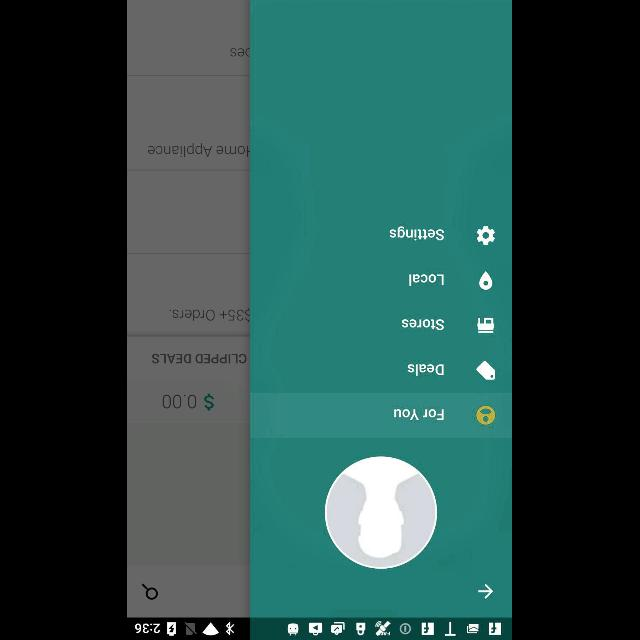icon: (326, 456, 438, 568), (476, 360, 496, 380), (476, 226, 496, 244), (476, 406, 496, 424), (142, 582, 160, 600), (479, 270, 493, 290), (478, 583, 494, 599)
image: (478, 317, 496, 333)
panel: (251, 0, 513, 618)
text: (154, 352, 246, 363), (163, 394, 214, 412), (149, 143, 213, 157), (173, 310, 245, 322), (390, 226, 446, 240), (394, 408, 444, 420), (402, 319, 446, 331), (408, 364, 444, 376), (410, 274, 444, 286)
uppertaskbar: (128, 617, 512, 639)
